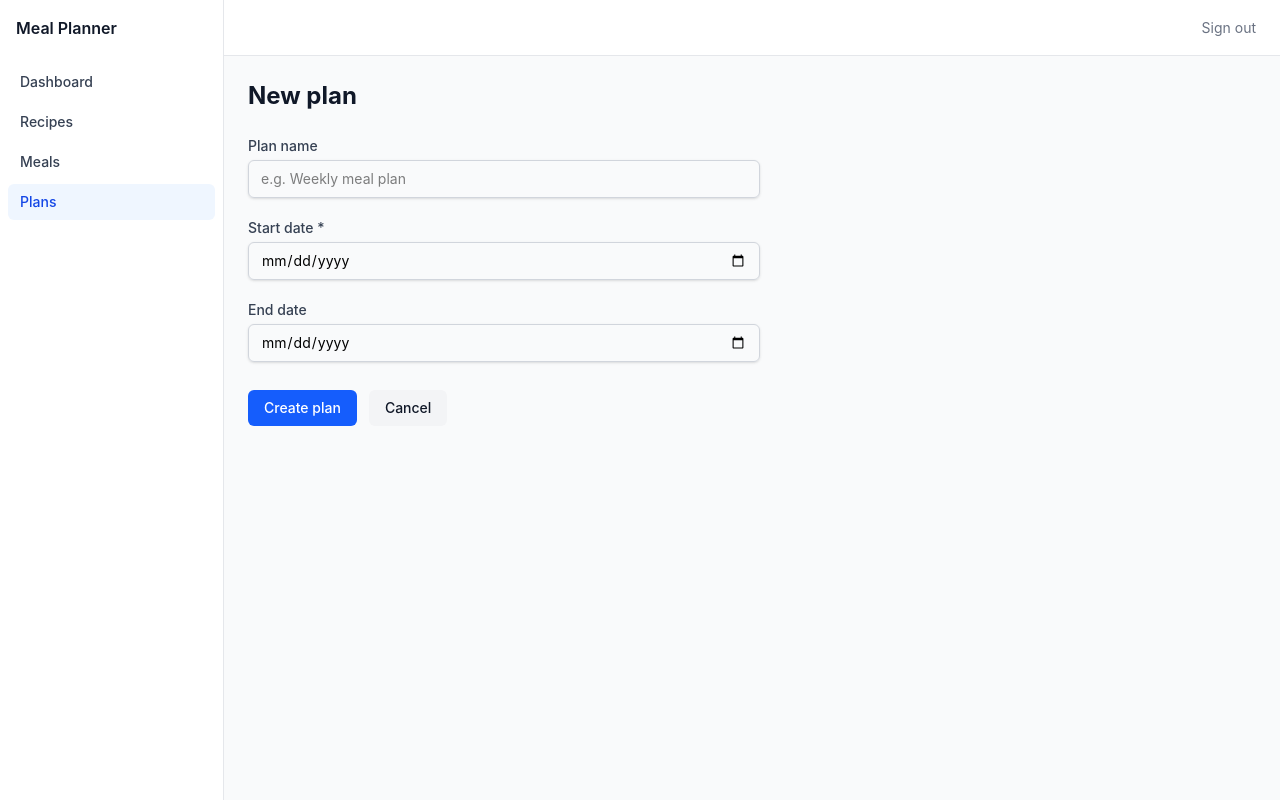
Scenario: PlanFormPage (create) › shows validation error for missing start date
Expected: the heading "New plan" is shown, [248,80,357,112]
Click the button "Create plan" at (302, 408), box [248,390,357,426]
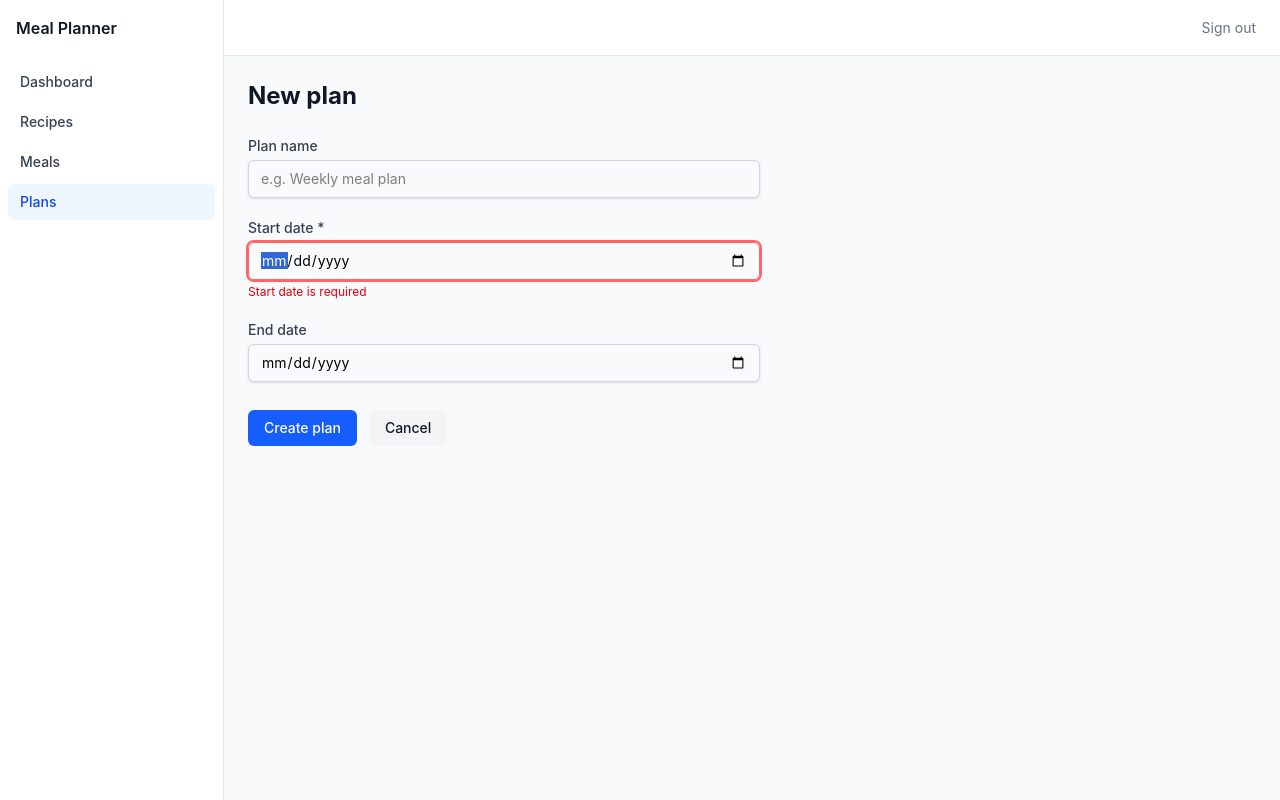
Result: the text "Start date is required" is shown at [248,284,367,299]
